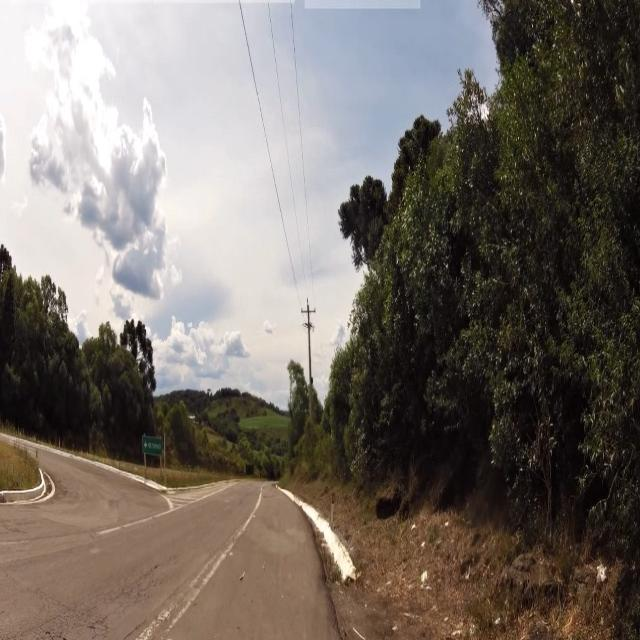I-4: (141, 434, 163, 456)
